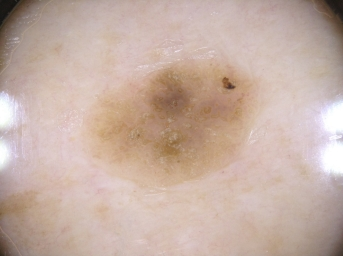seborrheic keratosis: (63, 50, 274, 192)
